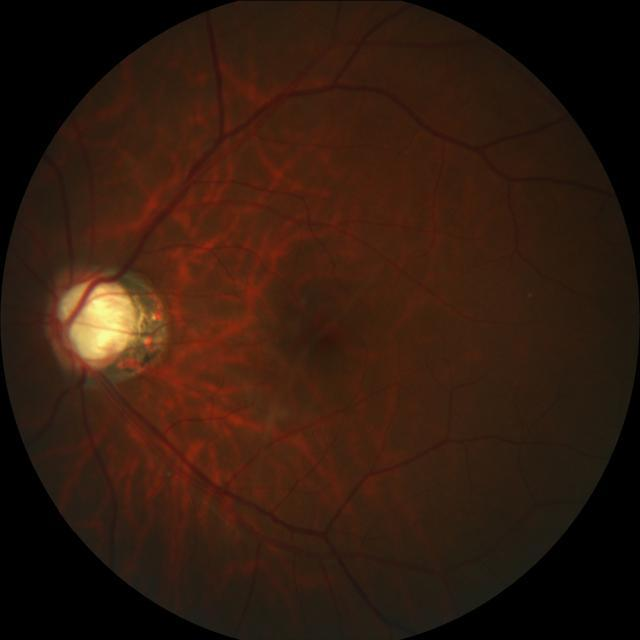OC: (59, 277, 140, 360)
OD: (45, 264, 140, 371)
